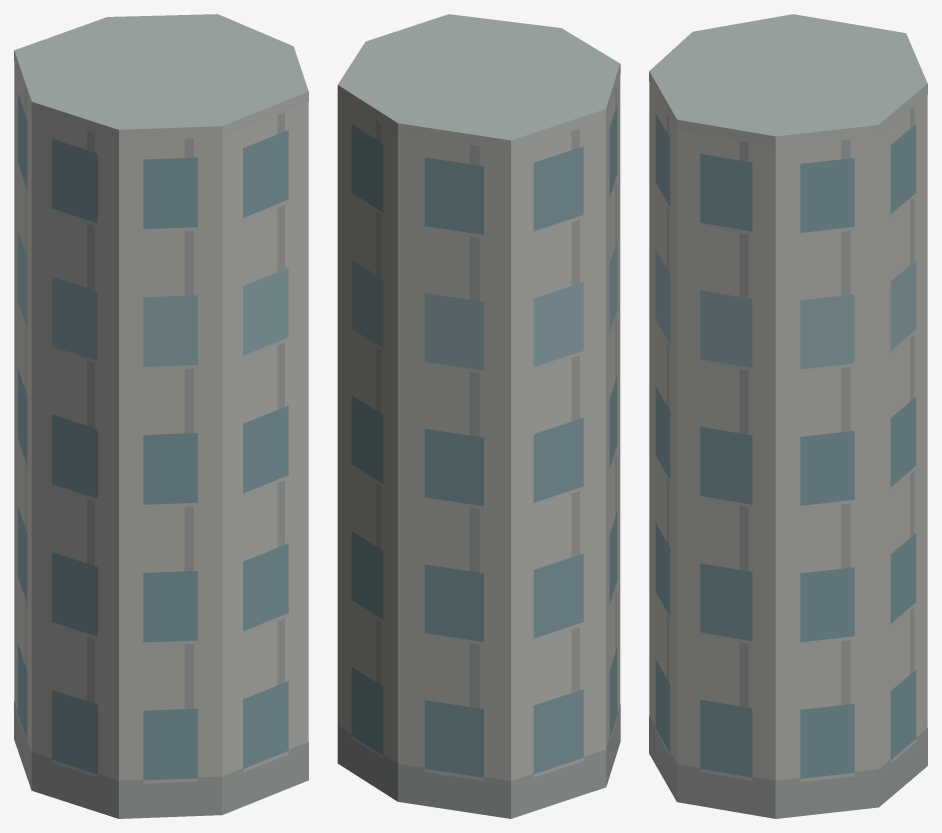
File: survey-upis-32703594.glb
The picture shows the model from 3 angles, left to right: view 1: azimuth 30°, elevation 25°; view 2: azimuth 150°, elevation 25°; view 3: azimuth 270°, elevation 25°; orthographic projection.
Visible parts, largest first — view 1: survey-upis-32703594.tmp; view 2: survey-upis-32703594.tmp; view 3: survey-upis-32703594.tmp.
Boxes of the visible parts, x1,y1,x2,y2 form: survey-upis-32703594.tmp: (14, 14, 308, 818); survey-upis-32703594.tmp: (337, 14, 620, 818); survey-upis-32703594.tmp: (649, 14, 927, 818).
Size of the model in its own units: 5.87 by 15.25 by 5.65.
